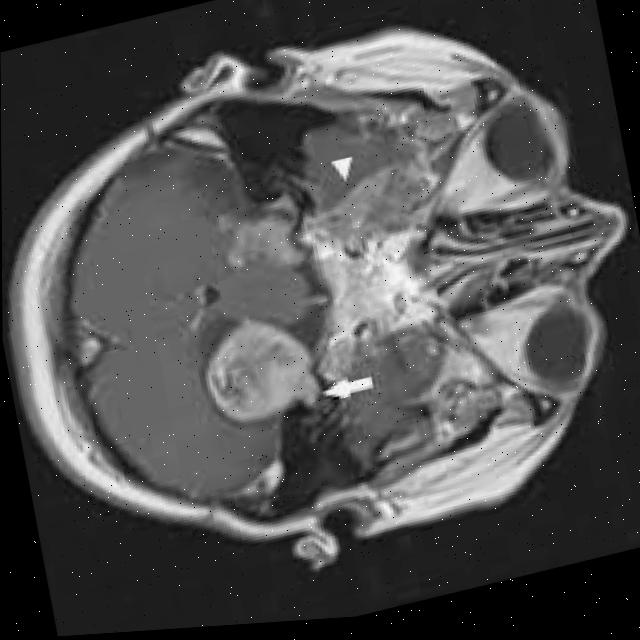Meningioma: (192, 301, 325, 442)
Pituitary: (334, 248, 398, 328)
